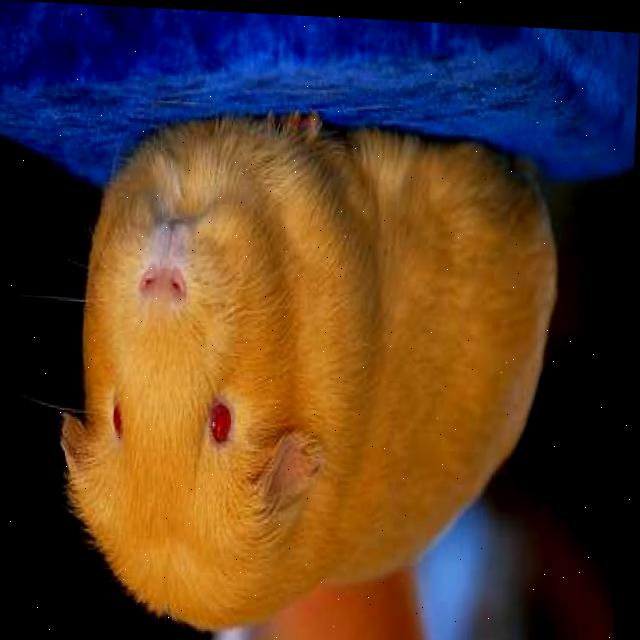guinea pig: (58, 95, 560, 640)
